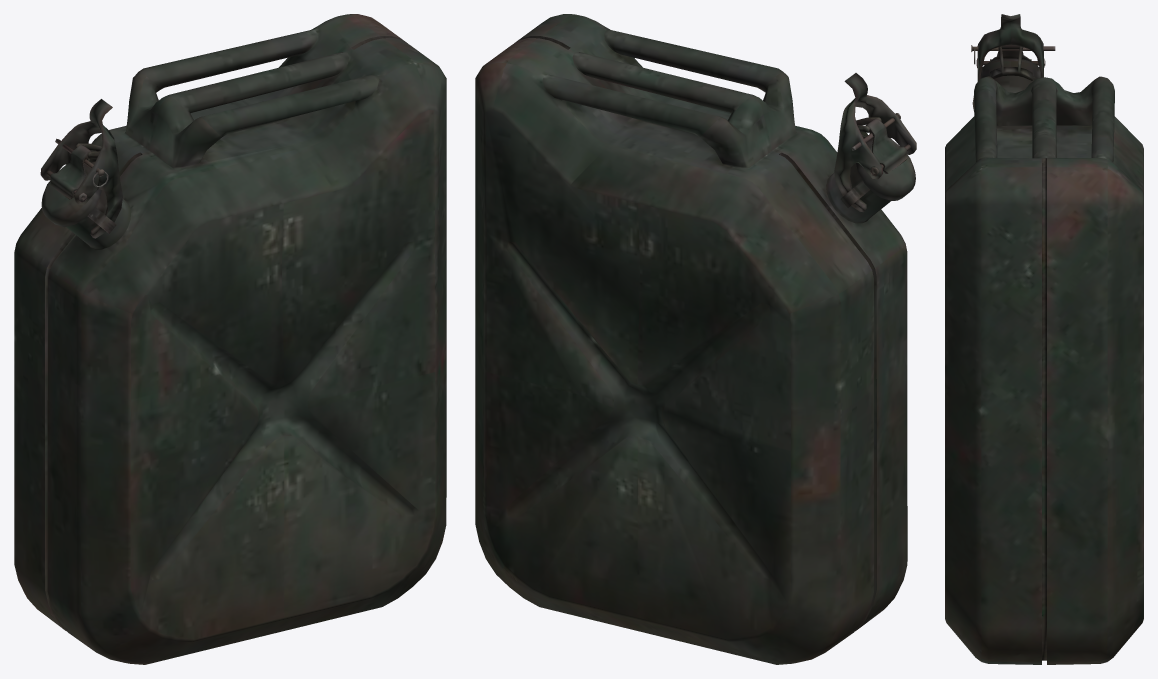
Rendered from jerrycan_steel.glb.
3 renders of one model, left to right at view 1: azimuth 30°, elevation 25°; view 2: azimuth 150°, elevation 25°; view 3: azimuth 270°, elevation 25°, orthographic. The views are drawn at different scales.
Visible parts, largest first — view 1: jerrycan_steel; view 2: jerrycan_steel; view 3: jerrycan_steel.
Boxes of the visible parts, bbox=[...] form: jerrycan_steel: bbox=[14, 14, 446, 664]; jerrycan_steel: bbox=[475, 14, 916, 664]; jerrycan_steel: bbox=[945, 14, 1143, 664].
Size of the model in its own units: 0.3604 by 0.4998 by 0.1709.
Materials: 1 (1 with a texture image).
